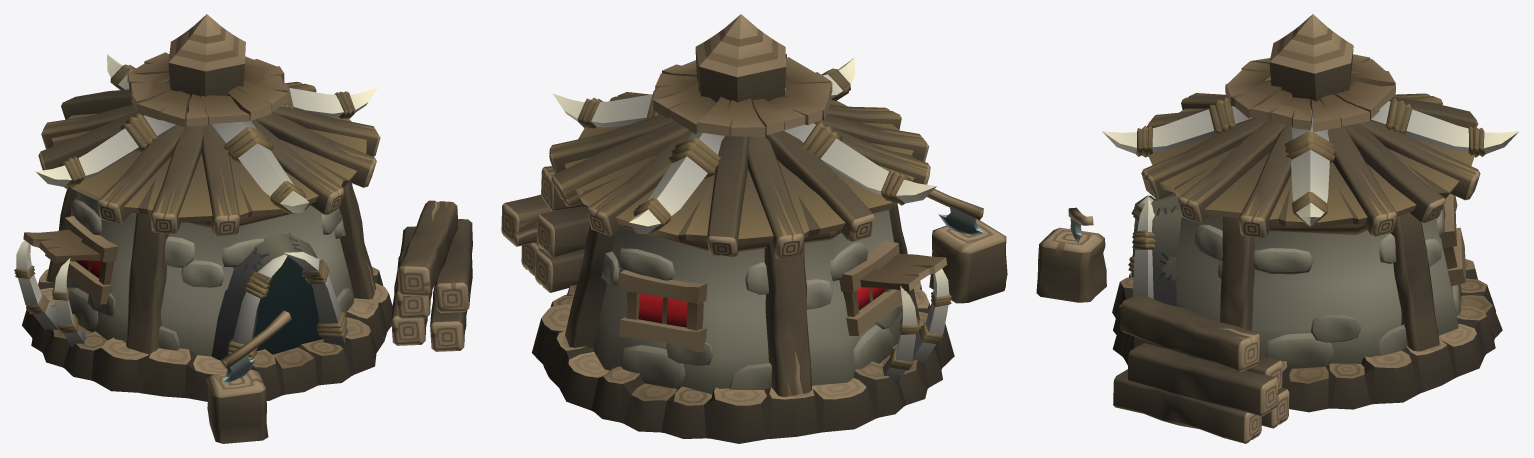
The model's file is orc_luberjack_Lv1.fbx.
3 renders of one model, left to right at view 1: azimuth 30°, elevation 25°; view 2: azimuth 150°, elevation 25°; view 3: azimuth 270°, elevation 25°, orthographic. The views are drawn at different scales.
Parts seen in each view (by area): view 1: orc_lumberjack_Lv1; view 2: orc_lumberjack_Lv1; view 3: orc_lumberjack_Lv1.
Boxes of the visible parts, box(x1,y1,x2,y2) form: orc_lumberjack_Lv1: box(14, 14, 472, 443); orc_lumberjack_Lv1: box(501, 14, 1007, 443); orc_lumberjack_Lv1: box(1036, 14, 1518, 443).
Bounding box in the file's own units: 9.76 × 6.95 × 9.52.
